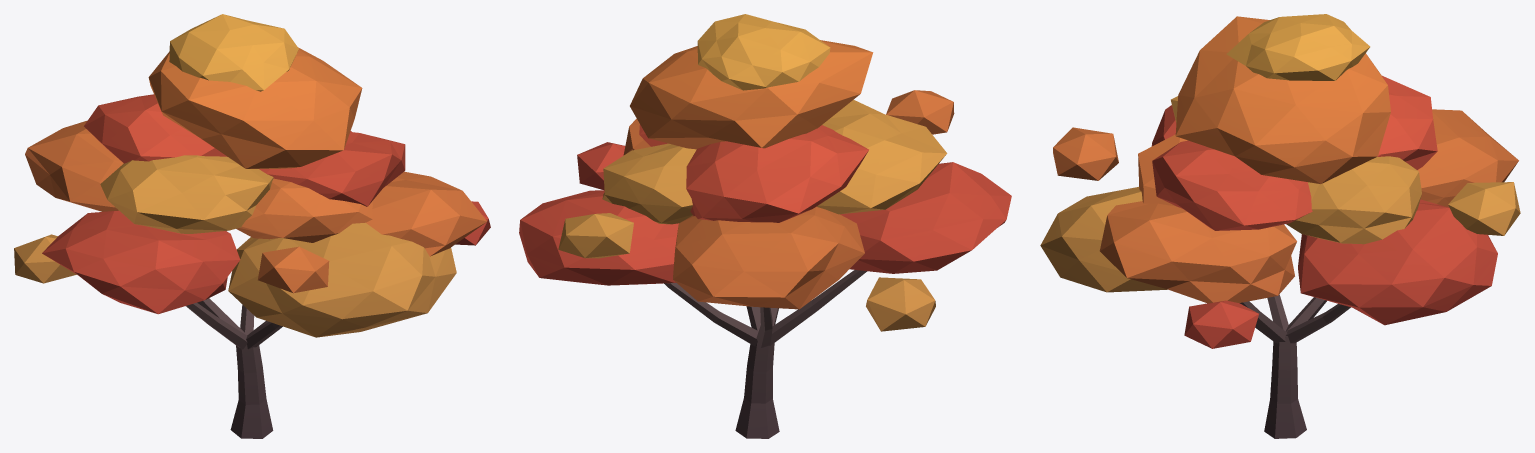
The model's file is maple_orange.glb.
3 renders of one model, left to right at view 1: azimuth 30°, elevation 25°; view 2: azimuth 150°, elevation 25°; view 3: azimuth 270°, elevation 25°, orthographic. The views are drawn at different scales.
Visible parts, largest first — view 1: maple_orange; view 2: maple_orange; view 3: maple_orange.
Boxes of the visible parts, box(x1,y1,x2,y2) form: maple_orange: box(14, 14, 490, 438); maple_orange: box(519, 14, 1011, 438); maple_orange: box(1040, 14, 1520, 438).
Bounding box in the file's own units: 5.92 × 5.51 × 5.94.
